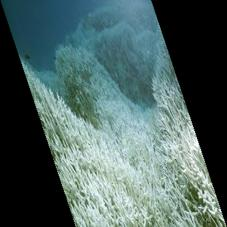bleached_corals: (20, 16, 225, 227)
